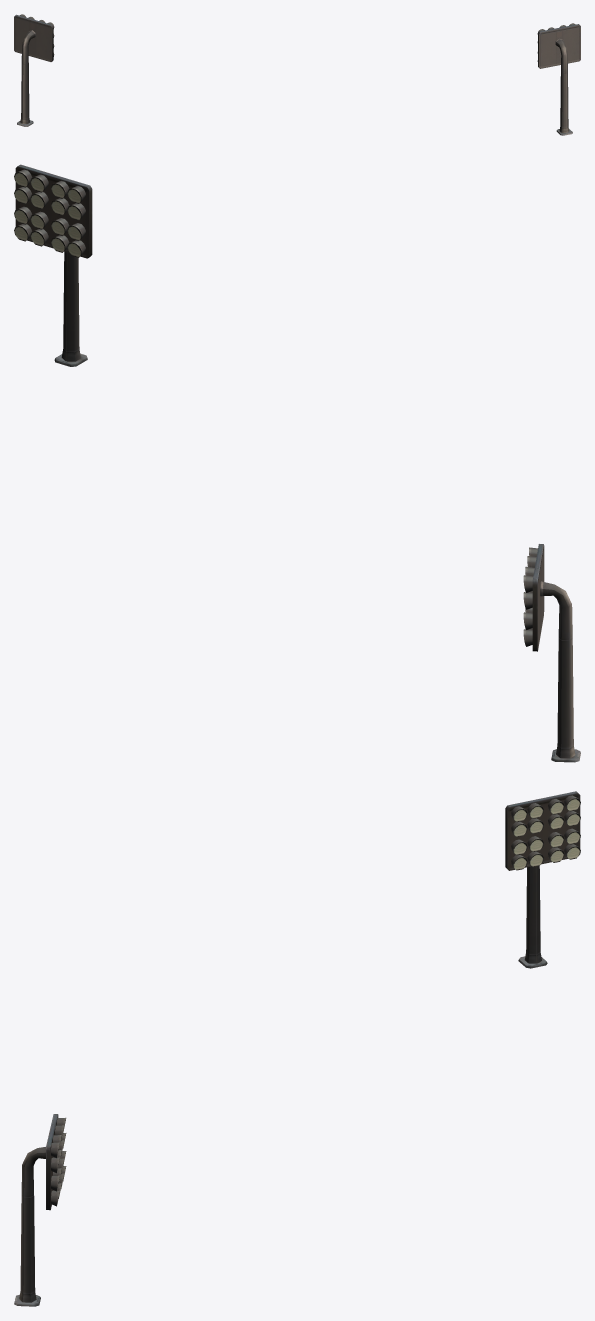
Rendered from pref_sm_beach_bk_pointmol_techbiglight_R_lv1.fbx.
The picture shows the model from 3 angles, top to bottom: view 1: azimuth 30°, elevation 25°; view 2: azimuth 150°, elevation 25°; view 3: azimuth 270°, elevation 25°; orthographic projection. The views are drawn at different scales.
Parts seen in each view (by area): view 1: pref_sm_beach_bk_pointmol_techbiglight_R_lv1; view 2: pref_sm_beach_bk_pointmol_techbiglight_R_lv1; view 3: pref_sm_beach_bk_pointmol_techbiglight_R_lv1.
Boxes of the visible parts, <box> form: pref_sm_beach_bk_pointmol_techbiglight_R_lv1: <box>14,14,580,135</box>; pref_sm_beach_bk_pointmol_techbiglight_R_lv1: <box>14,164,580,762</box>; pref_sm_beach_bk_pointmol_techbiglight_R_lv1: <box>14,791,580,1306</box>.
Bounding box in the file's own units: 34.55 × 7.64 × 22.73.
